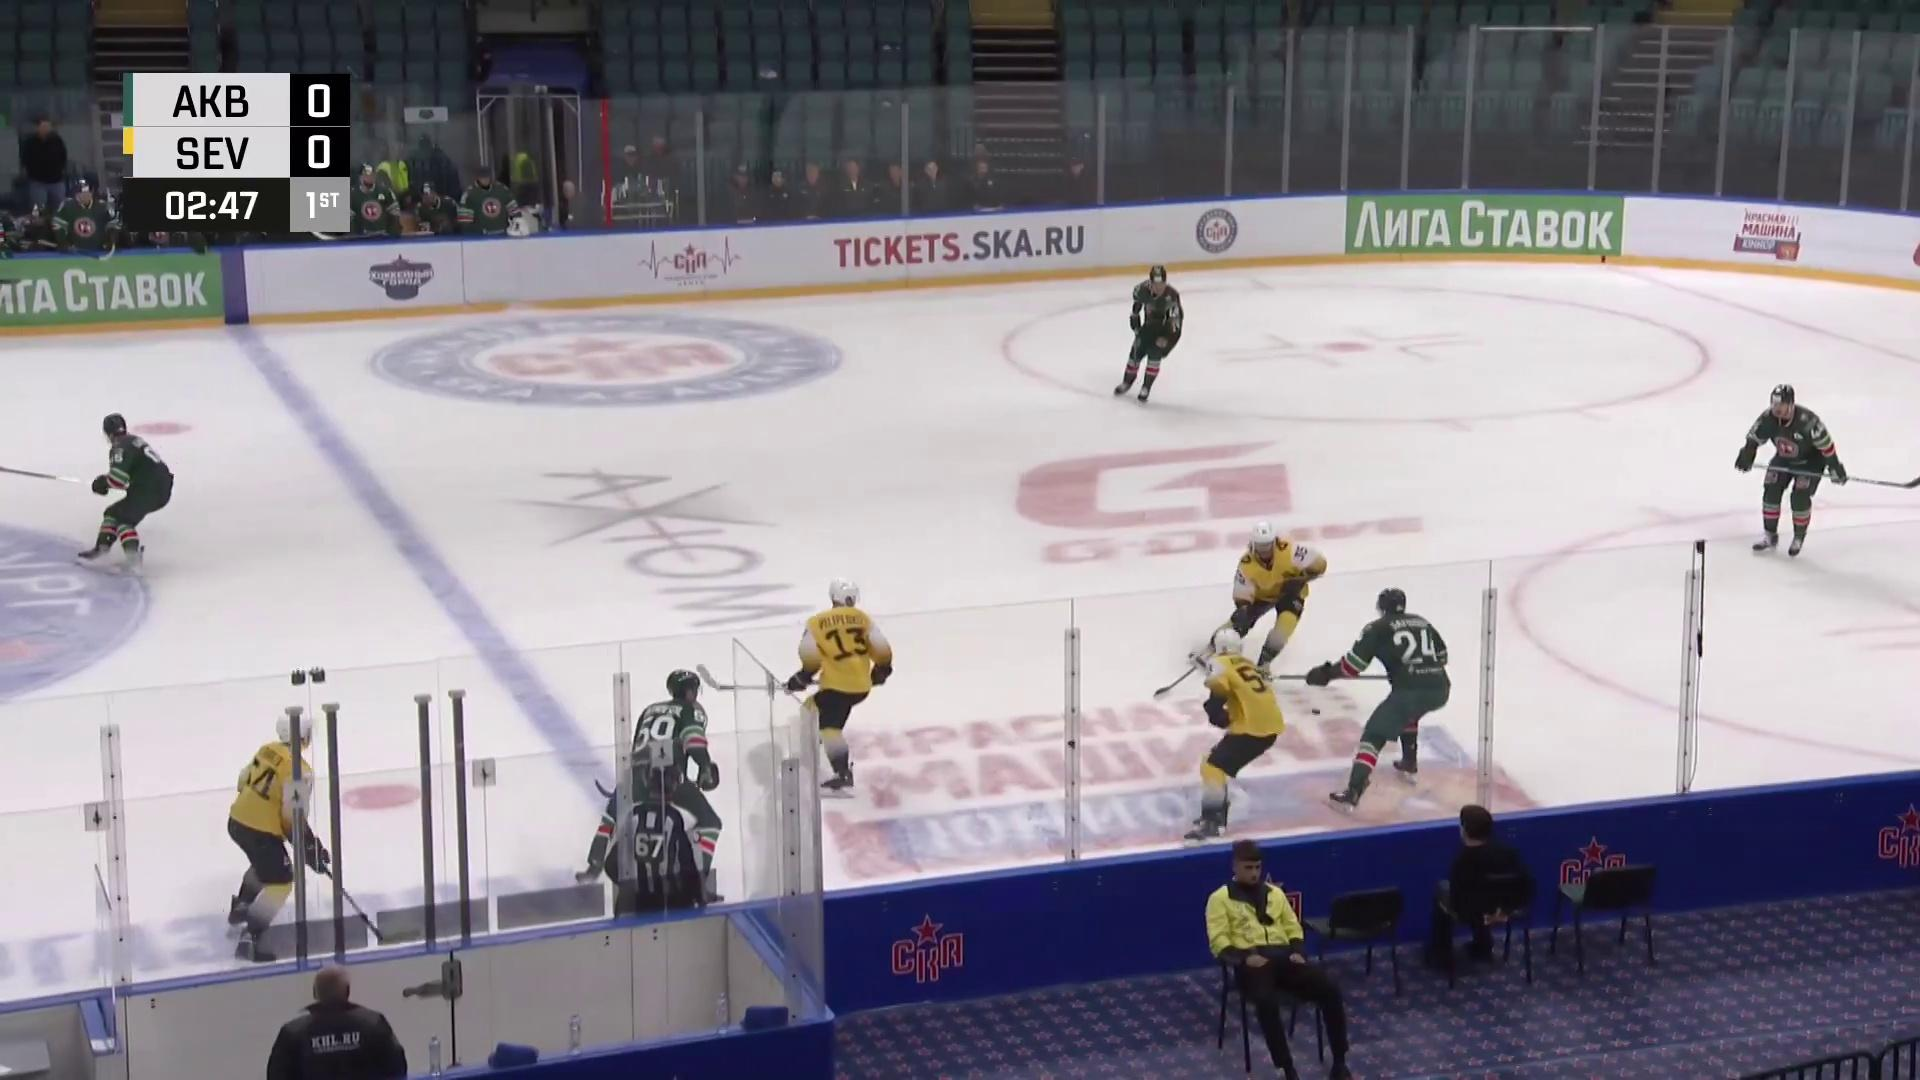ball: (1312, 707, 1323, 717)
